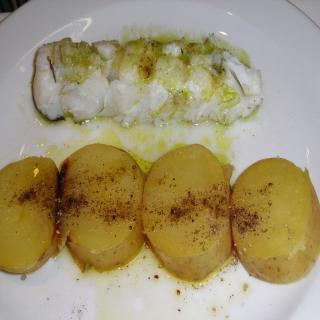Potato: (141, 143, 231, 282), (58, 140, 147, 272), (230, 157, 320, 284), (0, 156, 59, 276)
